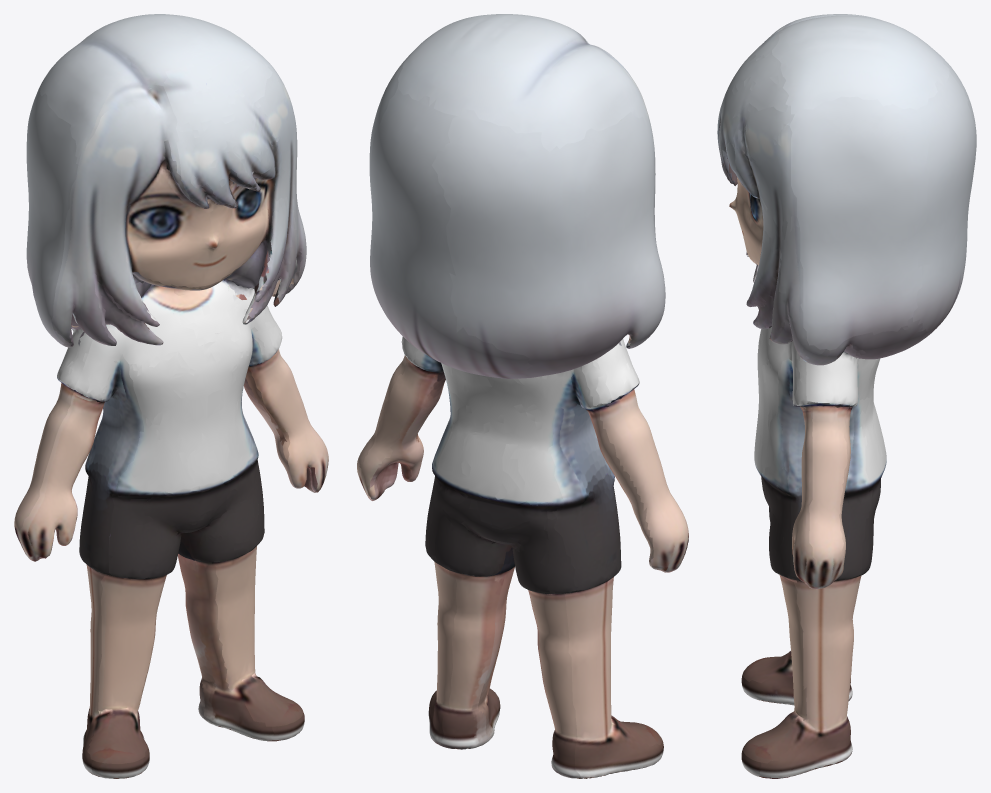
File: novice_f.glb
3 views of the same model, side by side, from view 1: azimuth 30°, elevation 25°; view 2: azimuth 150°, elevation 25°; view 3: azimuth 270°, elevation 25° (orthographic). The views are drawn at different scales.
Parts seen in each view (by area): view 1: tmp9w8h9w1f.ply; view 2: tmp9w8h9w1f.ply; view 3: tmp9w8h9w1f.ply.
Part boxes in pixels (box(x1,y1,x2,y2)): tmp9w8h9w1f.ply: box(14, 14, 328, 778); tmp9w8h9w1f.ply: box(357, 14, 688, 778); tmp9w8h9w1f.ply: box(717, 14, 976, 778).
Bounding box in the file's own units: 0.9081 × 1.96 × 0.657.
1 material, 1 textured.
